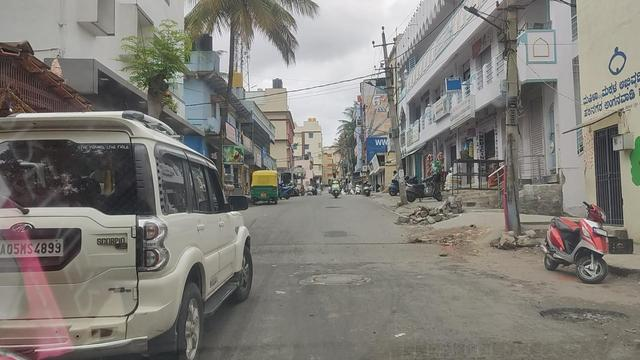RoadDamages: (539, 297, 632, 333), (297, 268, 372, 289)
